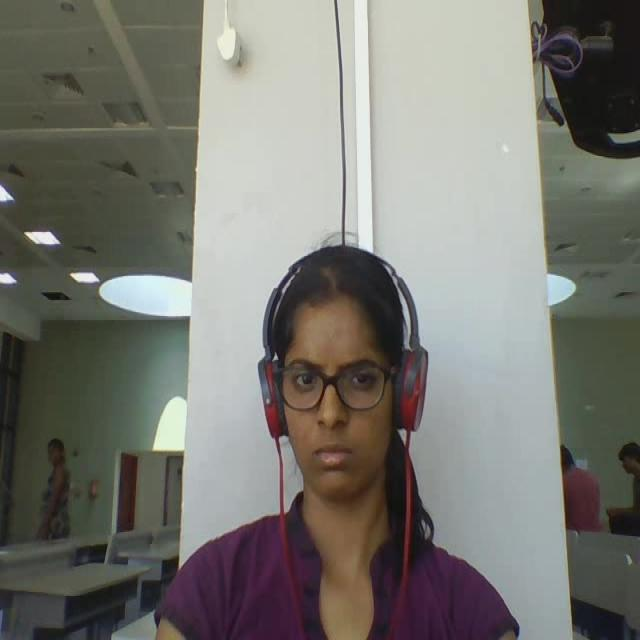Engaged: (233, 219, 437, 516)
